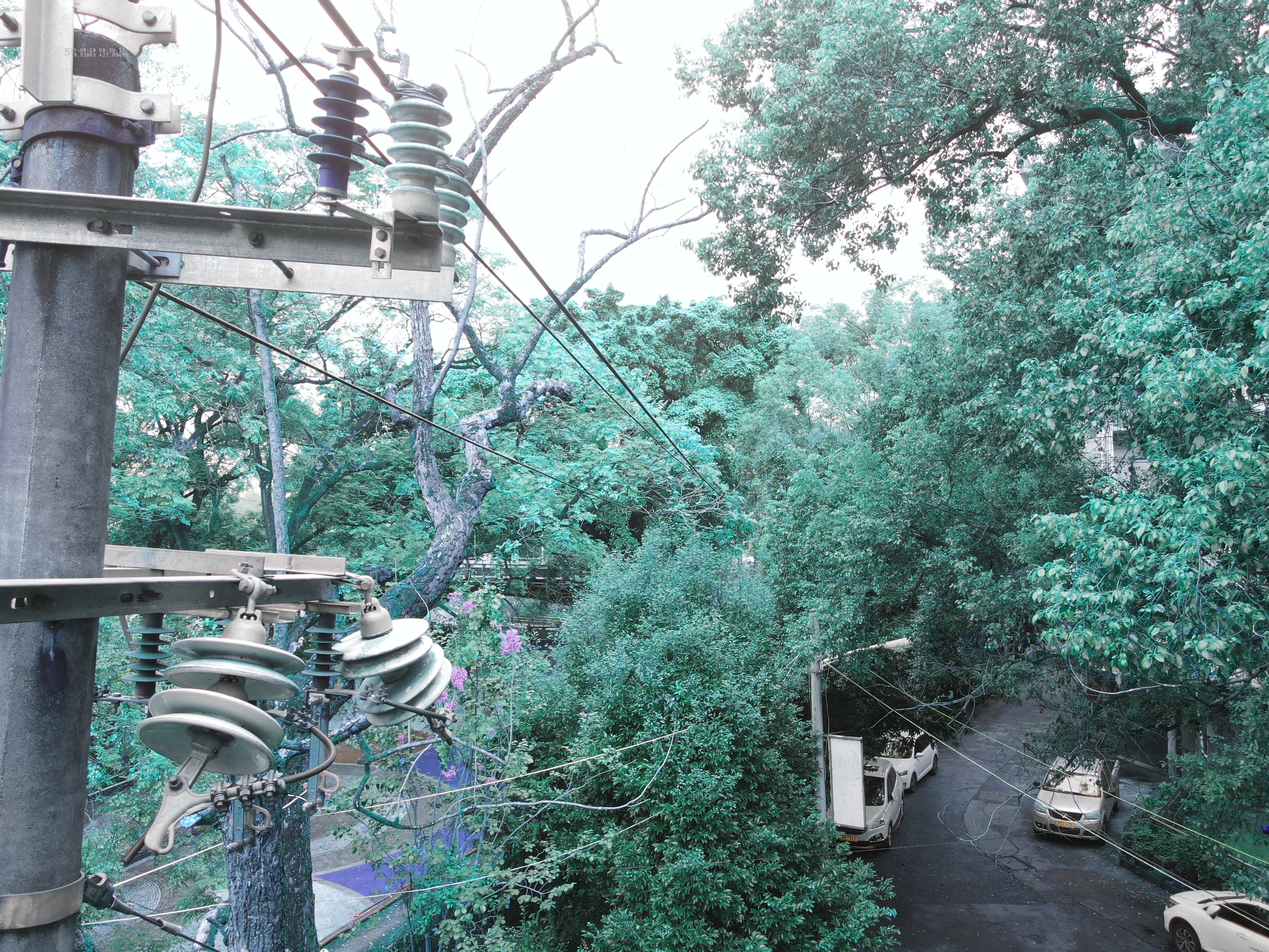severe_soiling_no_discharge_whole: (328, 602, 456, 728), (379, 74, 456, 222), (431, 151, 476, 268)
